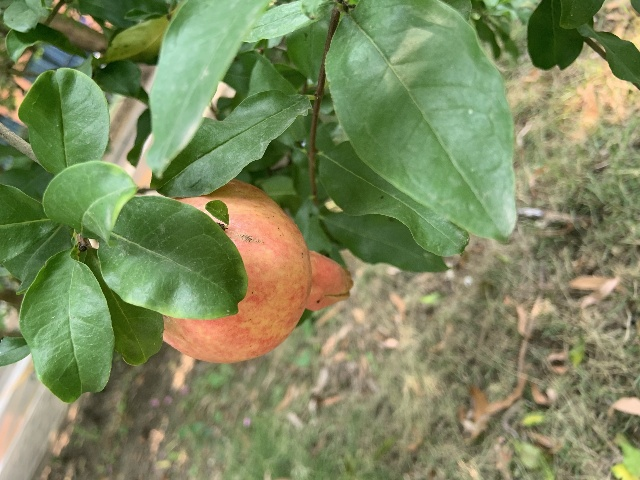early-fruit: (609, 276, 640, 468)
ripe: (162, 179, 354, 363)
